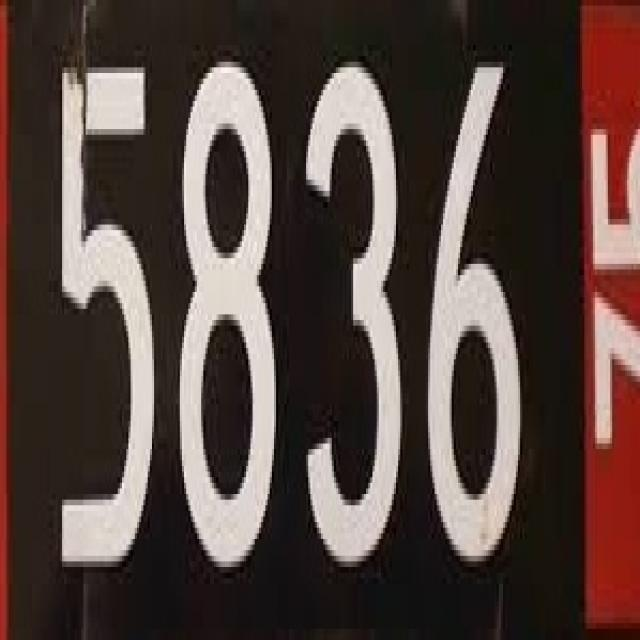licenseplate: (8, 11, 580, 640)
